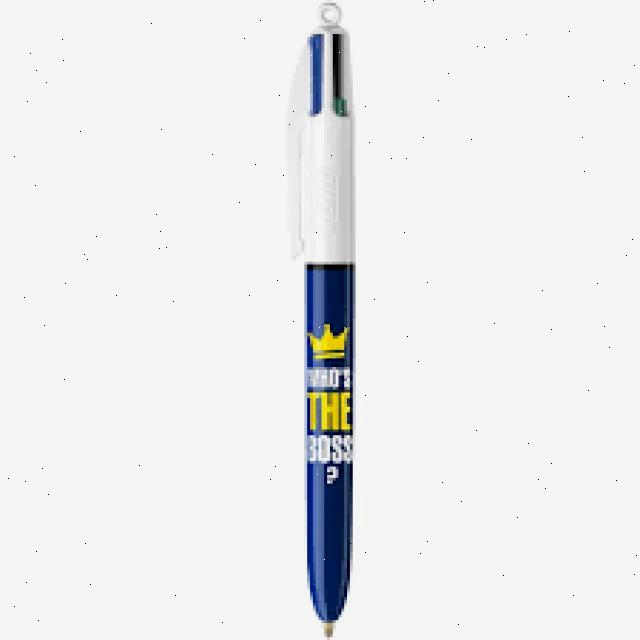pen: (288, 2, 356, 636), (288, 2, 356, 634)
